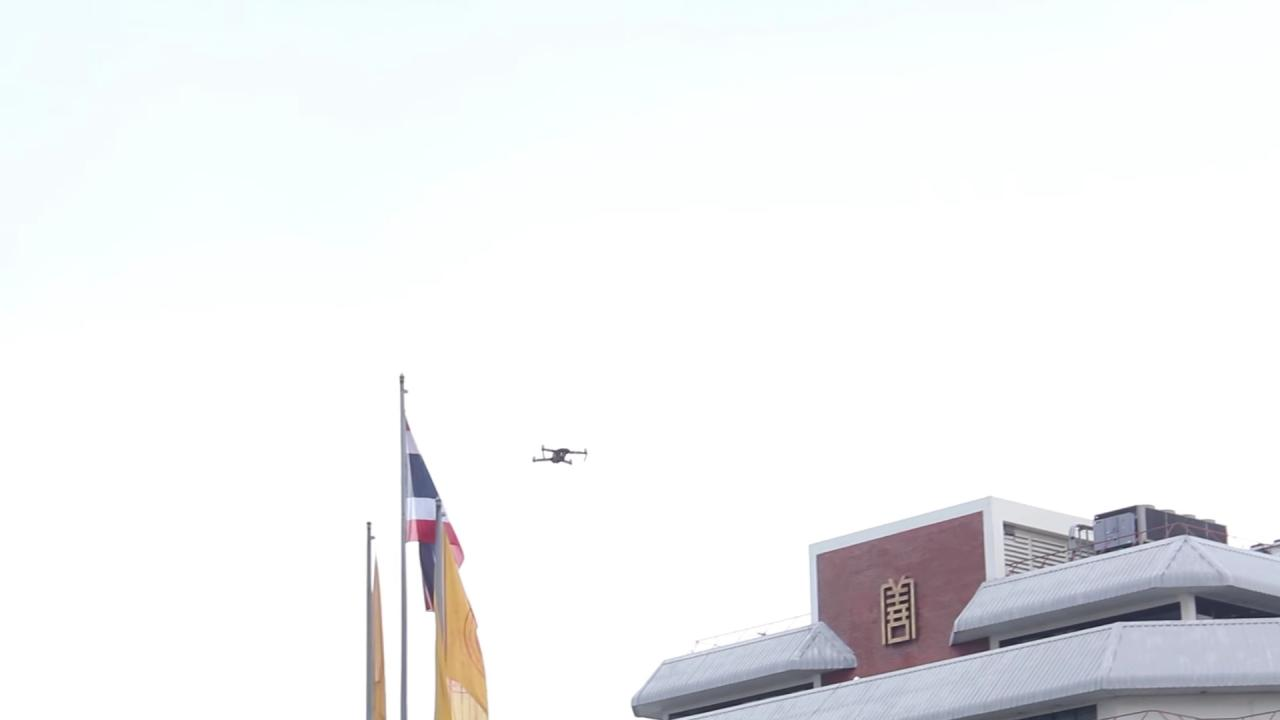Drone: (521, 433, 598, 476)
